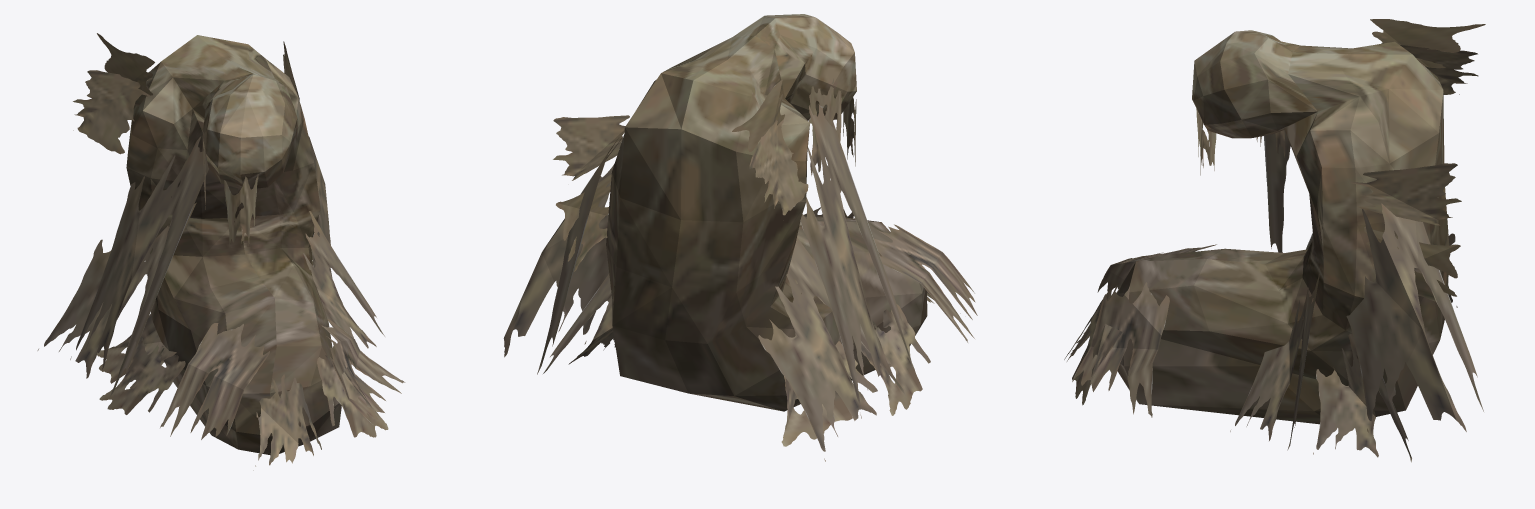
The model's file is webbed_victims_06.fbx.
3 views of the same model, side by side, from view 1: azimuth 30°, elevation 25°; view 2: azimuth 150°, elevation 25°; view 3: azimuth 270°, elevation 25° (orthographic). The views are drawn at different scales.
Visible parts, largest first — view 1: obj0.494; view 2: obj0.494; view 3: obj0.494.
Boxes of the visible parts, <box> form: obj0.494: <box>37,33,405,470</box>; obj0.494: <box>503,14,977,461</box>; obj0.494: <box>1064,19,1485,462</box>.
Size of the model in its own units: 1.5 by 1.38 by 1.64.
